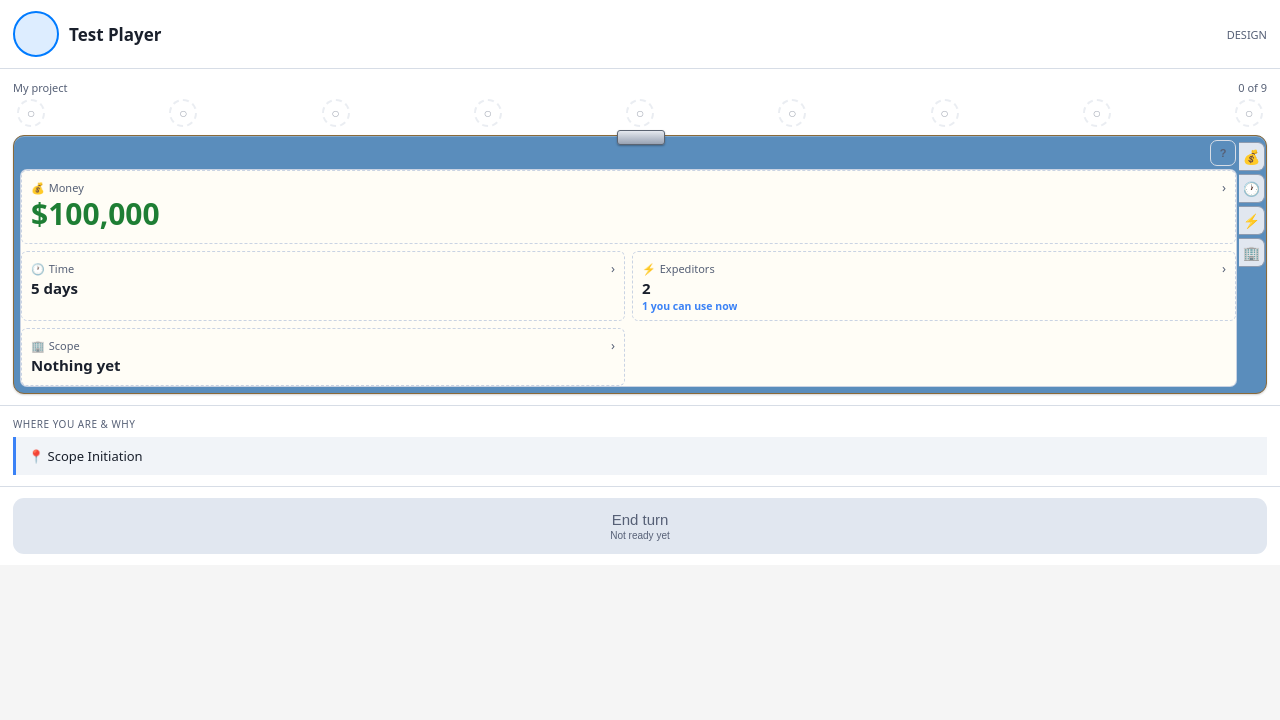
it: PlayerPanelV2 — E-card play from the influence zone › offers Activate only for a playable expeditor
Click the button with test id "glance-expeditors" at (687, 268), box [632,251,1236,321]
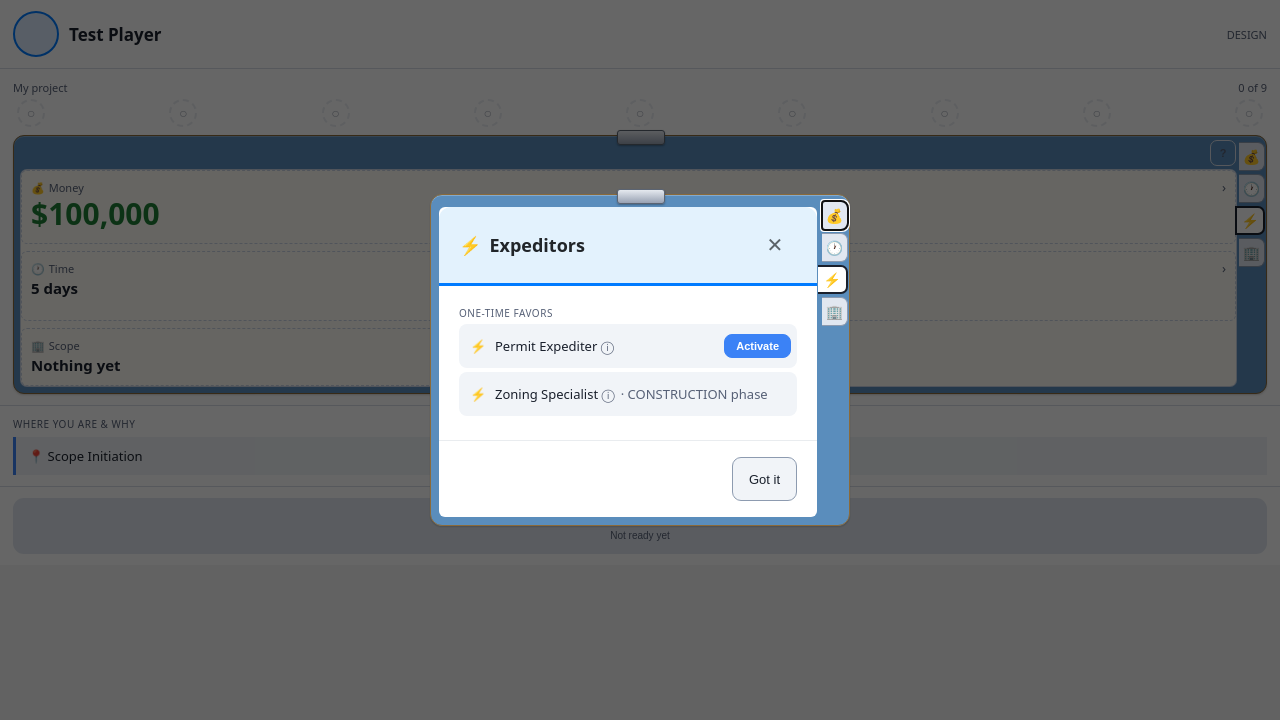
Expected: the text "Permit Expediter ⓘ" is shown, [495,337,614,355]
Expected: the button with aria-label "Activate Permit Expediter" is shown, [724,334,791,358]
Expected: the text "Zoning Specialist ⓘ· CONSTRUCTION phase" is shown, [495,385,791,403]
